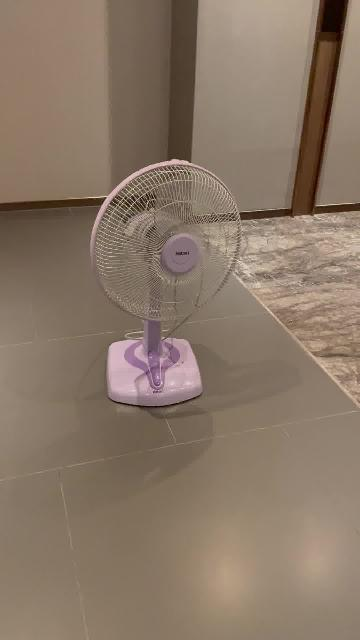Fan: (90, 160, 242, 408)
